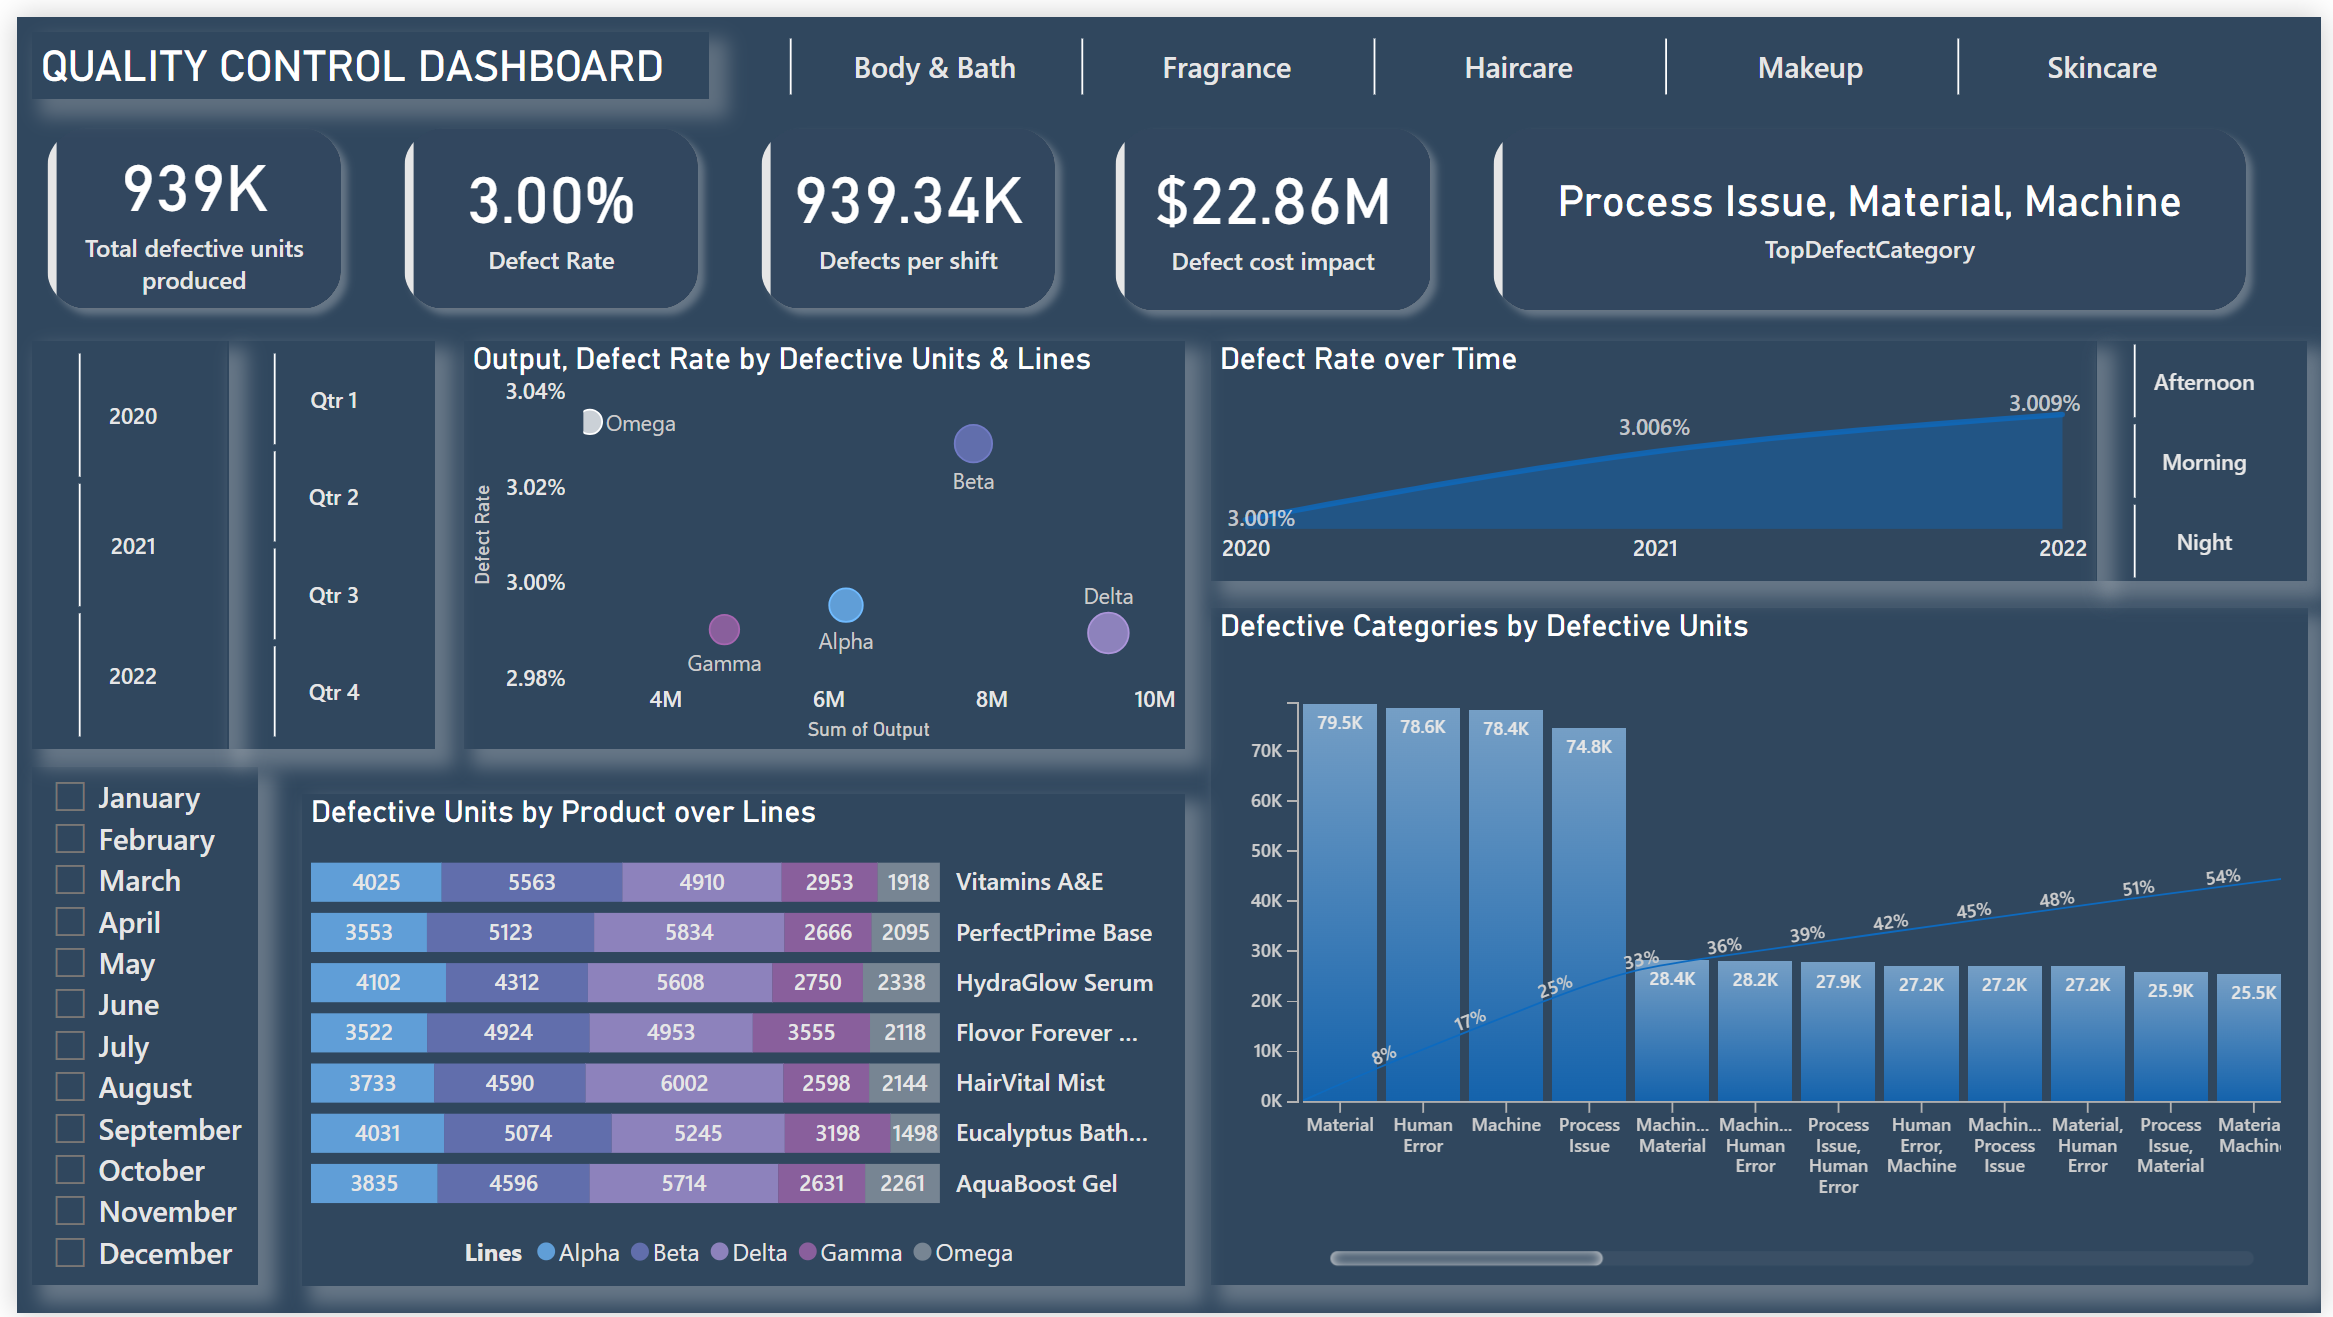

This screenshot's page, from the dashboard's own definition file:
{"tool":"powerbi","page":{"name":"Quality Control Dashboard","canvas":[1280,720],"ordinal":3},"visuals":[{"type":"cardVisual","title":"Total defective units produced","fields":{"Data":["production_data.Total defective units produced"]},"box":[0,45.8,197.5,134.6],"z":0},{"type":"scatterChart","title":"Output, Defect Rate by Defective Units & Lines","fields":{"Y":["production_data.Defect Rate"],"X":["production_data.Output"],"Size":["Sum(production_data.DefectiveUnits)"],"Series":["lines_data.Name"]},"box":[247.6,180.1,400.4,226.7],"z":1000},{"type":"slicer","fields":{"Values":["Products.Category"]},"box":[403.6,4.8,858.7,45],"z":2000},{"type":"slicer","fields":{"Values":["production_data.Date.Variation.Date Hierarchy.Year"]},"box":[8,180.1,109.3,226.7],"z":3000},{"type":"hundredPercentStackedBarChart","title":"Defective Units by Product over Lines","fields":{"Category":["Products.Name"],"Y":["Sum(production_data.DefectiveUnits)"],"Series":["lines_data.Name"]},"box":[157.6,431,490.5,273.4],"z":4000},{"type":"slicer","fields":{"Values":["production_data.Date.Variation.Date Hierarchy.Month"]},"box":[8,416.5,125.4,287.8],"z":5000},{"type":"lineChart","title":"Defect Rate over Time","fields":{"Category":["production_data.Date.Variation.Date Hierarchy.Year","production_data.Date.Variation.Date Hierarchy.Quarter","production_data.Date.Variation.Date Hierarchy.Month","production_data.Date.Variation.Date Hierarchy.Day"],"Y":["production_data.Defect Rate"]},"box":[662.5,180.1,492.1,133.5],"z":6000},{"type":"paretoplus2EFEC13210A14D3E82580687601DE984","title":"Defective Categories by Defective Units ","fields":{"categories":["production_data.Defective_Categories"],"values":["Sum(production_data.DefectiveUnits)"]},"box":[662.5,328,609.4,376.3],"z":7000},{"type":"textbox","box":[8.6,8.6,376.5,37.2],"z":8000},{"type":"cardVisual","title":"Total defective units produced","fields":{"Data":["production_data.Defect Rate"]},"box":[199,45.8,197.5,134.6],"z":9000},{"type":"cardVisual","title":"Total defective units produced","fields":{"Data":["shifts_data.Defects per shift"]},"box":[396.5,45.8,197.5,134.6],"z":10000},{"type":"cardVisual","title":"Total defective units produced","fields":{"Data":["Products.Defect cost impact"]},"box":[593.2,45.1,209.9,135.3],"z":11000},{"type":"cardVisual","title":"Total defective units produced","fields":{"Data":["Products.TopDefectCategory"]},"box":[803,45.1,452.7,135.3],"z":12000},{"type":"slicer","fields":{"Values":["production_data.Date.Variation.Date Hierarchy.Quarter"]},"box":[117.4,180.1,115.8,226.7],"z":13000},{"type":"slicer","fields":{"Values":["production_data.Shift"]},"box":[1154.6,180.1,117.4,133.5],"z":14000}]}

Visuals, with their boxes in screenshot pixels (x1, y1, x2, y2), scaled from the page's 1280x720 canvas onto the 2333x1317 screenshot:
"Total defective units produced" cardVisual: l=0, t=84, r=360, b=330
"Output, Defect Rate by Defective Units & Lines" scatterChart: l=451, t=329, r=1181, b=744
slicer - Products.Category: l=736, t=9, r=2301, b=91
slicer - production_data.Date.Variation.Date Hierarchy.Year: l=15, t=329, r=214, b=744
"Defective Units by Product over Lines" hundredPercentStackedBarChart: l=287, t=788, r=1181, b=1288
slicer - production_data.Date.Variation.Date Hierarchy.Month: l=15, t=762, r=243, b=1288
"Defect Rate over Time" lineChart: l=1208, t=329, r=2104, b=574
"Defective Categories by Defective Units " paretoplus2EFEC13210A14D3E82580687601DE984: l=1208, t=600, r=2318, b=1288
textbox: l=16, t=16, r=702, b=84
"Total defective units produced" cardVisual: l=363, t=84, r=723, b=330
"Total defective units produced" cardVisual: l=723, t=84, r=1083, b=330
"Total defective units produced" cardVisual: l=1081, t=82, r=1464, b=330
"Total defective units produced" cardVisual: l=1464, t=82, r=2289, b=330
slicer - production_data.Date.Variation.Date Hierarchy.Quarter: l=214, t=329, r=425, b=744
slicer - production_data.Shift: l=2104, t=329, r=2318, b=574
